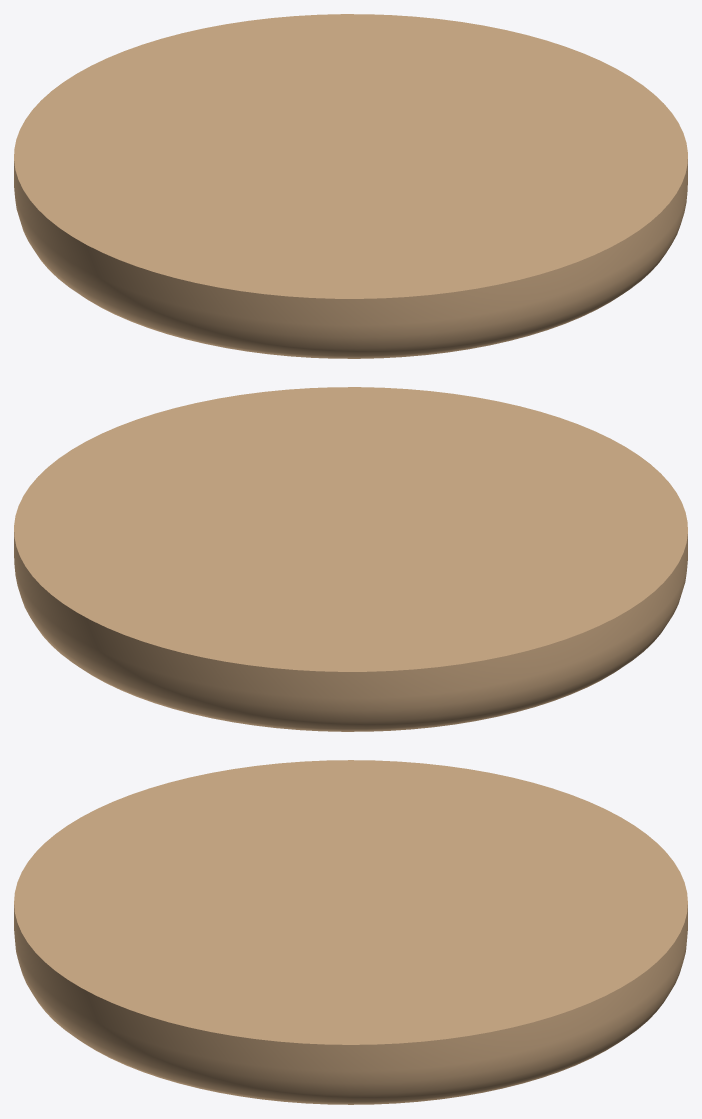
File: broodje_onderkant.glb
3 views of the same model, one above another, from view 1: azimuth 30°, elevation 25°; view 2: azimuth 150°, elevation 25°; view 3: azimuth 270°, elevation 25° (orthographic).
Parts seen in each view (by area): view 1: Cylinder; view 2: Cylinder; view 3: Cylinder.
Boxes of the visible parts, box(x1,y1,x2,y2) form: Cylinder: box(14, 14, 687, 358); Cylinder: box(14, 387, 687, 731); Cylinder: box(14, 760, 687, 1104).
Size of the model in its own units: 1.1 by 0.1254 by 1.1.
